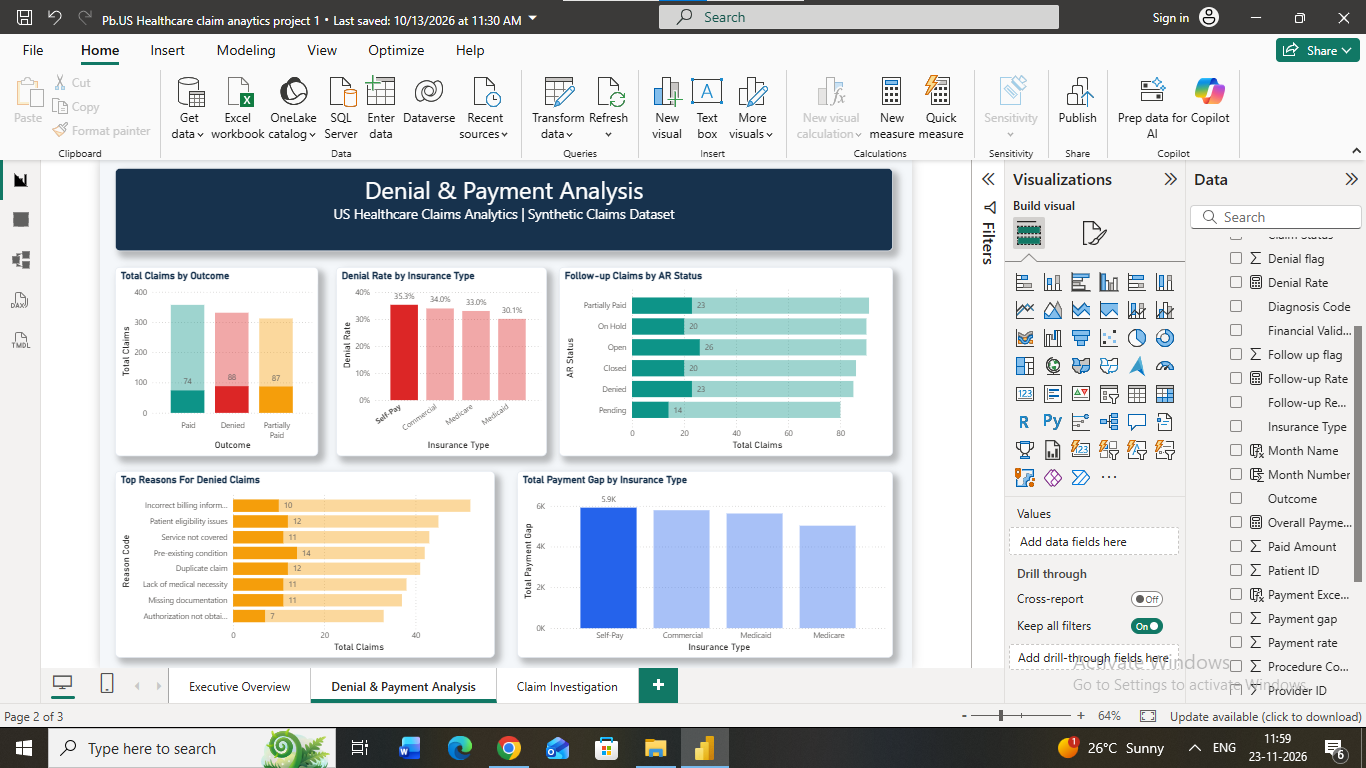

Layout of this report page (visuals, bound fields, positions):
{"tool":"powerbi","page":{"name":"Denial & Payment Analysis","canvas":[1280,800],"ordinal":1},"visuals":[{"type":"clusteredColumnChart","fields":{"Category":["claim_data.Outcome"],"Y":["claim_data.Total Claims"]},"box":[23.6,168.5,319.7,297.6],"z":0},{"type":"clusteredBarChart","title":"Top Reasons For Denied Claims","fields":{"Category":["claim_data.Reason Code"],"Y":["claim_data.Total Claims"]},"box":[23.6,489.8,598.4,294.5],"z":1000},{"type":"clusteredColumnChart","fields":{"Category":["claim_data.Insurance Type"],"Y":["claim_data.Denial Rate"]},"box":[371.7,168.5,332.3,297.6],"z":2000},{"type":"clusteredColumnChart","fields":{"Category":["claim_data.Insurance Type"],"Y":["claim_data.Total Payment Gap"]},"box":[656.7,489.8,592.1,294.5],"z":3000},{"type":"clusteredBarChart","title":"Follow-up Claims by AR Status","fields":{"Category":["claim_data.AR Status"],"Y":["claim_data.Total Claims"]},"box":[722.8,168.5,526,297.6],"z":4000},{"type":"textbox","box":[23.6,12.6,1225.2,130.7],"z":5000}]}

Visuals, with their boxes on the page's 1280x800 design canvas (x1, y1, x2, y2). These are canvas units, not pixel positions in the 1366x768 screenshot, which may show the page scaled, cropped or inside an application window:
clusteredColumnChart - claim_data.Outcome x claim_data.Total Claims: 24, 168, 343, 466
"Top Reasons For Denied Claims" clusteredBarChart: 24, 490, 622, 784
clusteredColumnChart - claim_data.Insurance Type x claim_data.Denial Rate: 372, 168, 704, 466
clusteredColumnChart - claim_data.Insurance Type x claim_data.Total Payment Gap: 657, 490, 1249, 784
"Follow-up Claims by AR Status" clusteredBarChart: 723, 168, 1249, 466
textbox: 24, 13, 1249, 143
